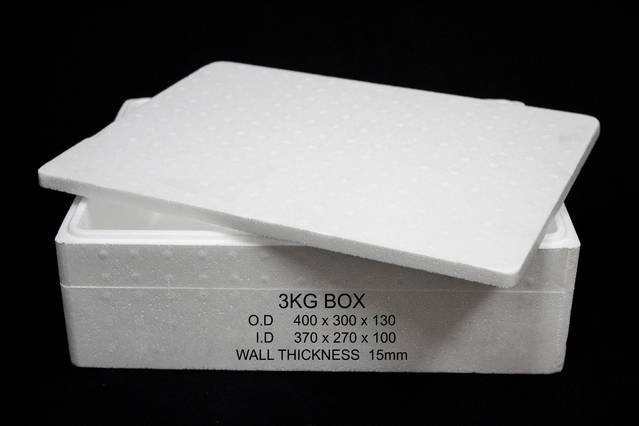泡沫箱: (39, 62, 598, 373)
